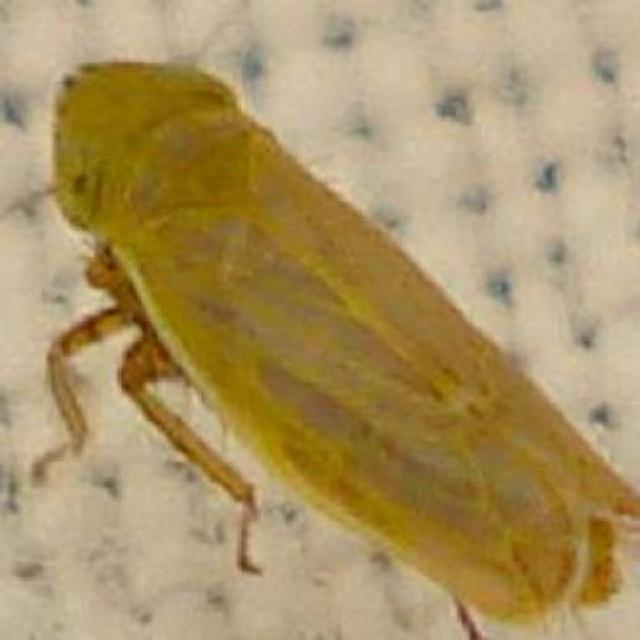green-leafhopper: (52, 72, 611, 618)
